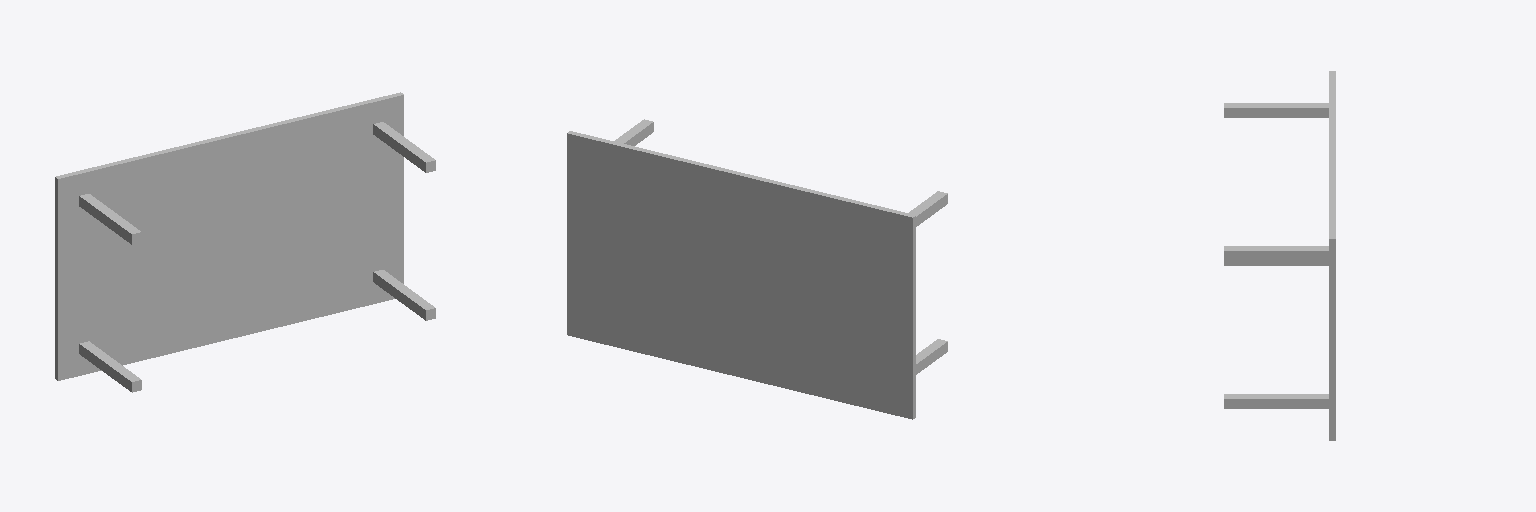
File: random_table79.obj
3 renders of one model, left to right at view 1: azimuth 30°, elevation 25°; view 2: azimuth 150°, elevation 25°; view 3: azimuth 270°, elevation 25°, orthographic.
Parts seen in each view (by area): view 1: Table_Cube.1460, TableLeg0_Cube.1461, TableLeg1_Cube.1462, TableLeg2_Cube.1463, TableLeg3_Cube.1464; view 2: Table_Cube.1460, TableLeg1_Cube.1462, TableLeg3_Cube.1464, TableLeg0_Cube.1461; view 3: Table_Cube.1460, TableLeg0_Cube.1461, TableLeg1_Cube.1462, TableLeg2_Cube.1463.
Boxes of the visible parts, <box> form: Table_Cube.1460: <box>55,92,403,380</box>; TableLeg0_Cube.1461: <box>373,122,435,172</box>; TableLeg1_Cube.1462: <box>79,194,141,244</box>; TableLeg2_Cube.1463: <box>373,270,435,320</box>; TableLeg3_Cube.1464: <box>79,341,141,392</box>; Table_Cube.1460: <box>567,131,915,419</box>; TableLeg1_Cube.1462: <box>909,191,947,226</box>; TableLeg3_Cube.1464: <box>916,339,947,374</box>; TableLeg0_Cube.1461: <box>614,119,653,145</box>; Table_Cube.1460: <box>1329,71,1335,440</box>; TableLeg0_Cube.1461: <box>1224,246,1328,261</box>; TableLeg1_Cube.1462: <box>1224,103,1328,117</box>; TableLeg2_Cube.1463: <box>1224,394,1328,408</box>.
Bounding box in the file's own units: 9.67 × 5.4 × 2.72.